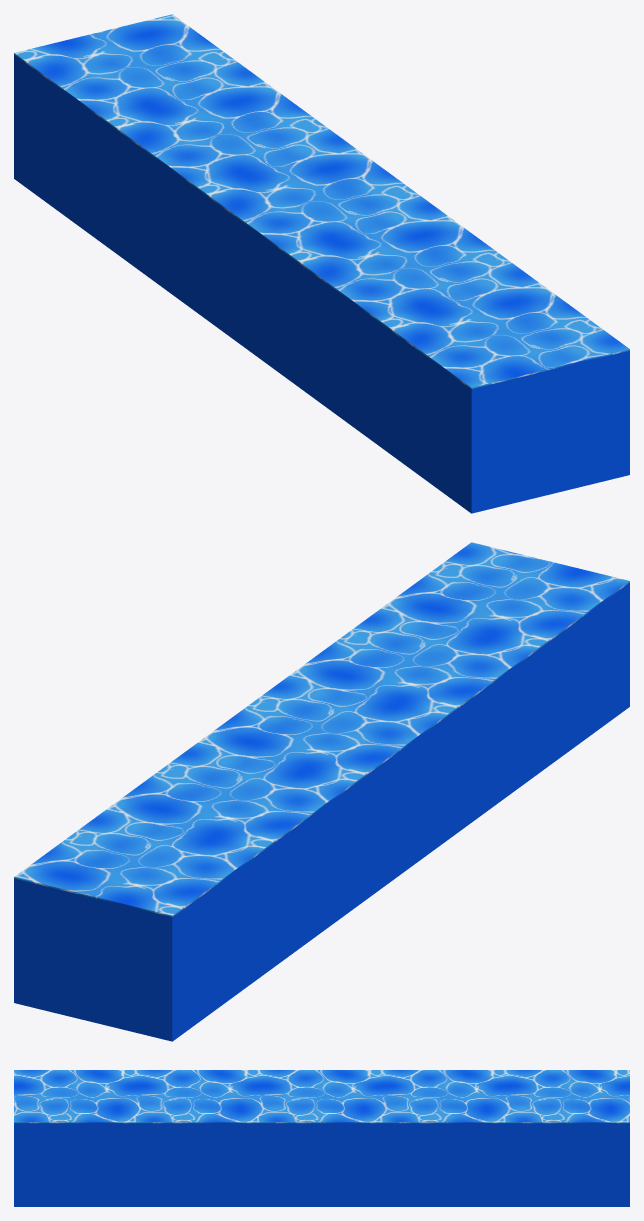
File: MG-ChJ-CS-09ShuiMian-5.FBX
3 views of the same model, one above another, from view 1: azimuth 30°, elevation 25°; view 2: azimuth 150°, elevation 25°; view 3: azimuth 270°, elevation 25° (orthographic). The views are drawn at different scales.
Parts seen in each view (by area): view 1: MG-ChJ-CS-09ShuiMian-5; view 2: MG-ChJ-CS-09ShuiMian-5; view 3: MG-ChJ-CS-09ShuiMian-5.
Boxes of the visible parts, <box> form: MG-ChJ-CS-09ShuiMian-5: <box>14,14,629,513</box>; MG-ChJ-CS-09ShuiMian-5: <box>14,542,629,1041</box>; MG-ChJ-CS-09ShuiMian-5: <box>14,1070,629,1206</box>.
Size of the model in its own units: 39.37 by 29.88 by 197.
